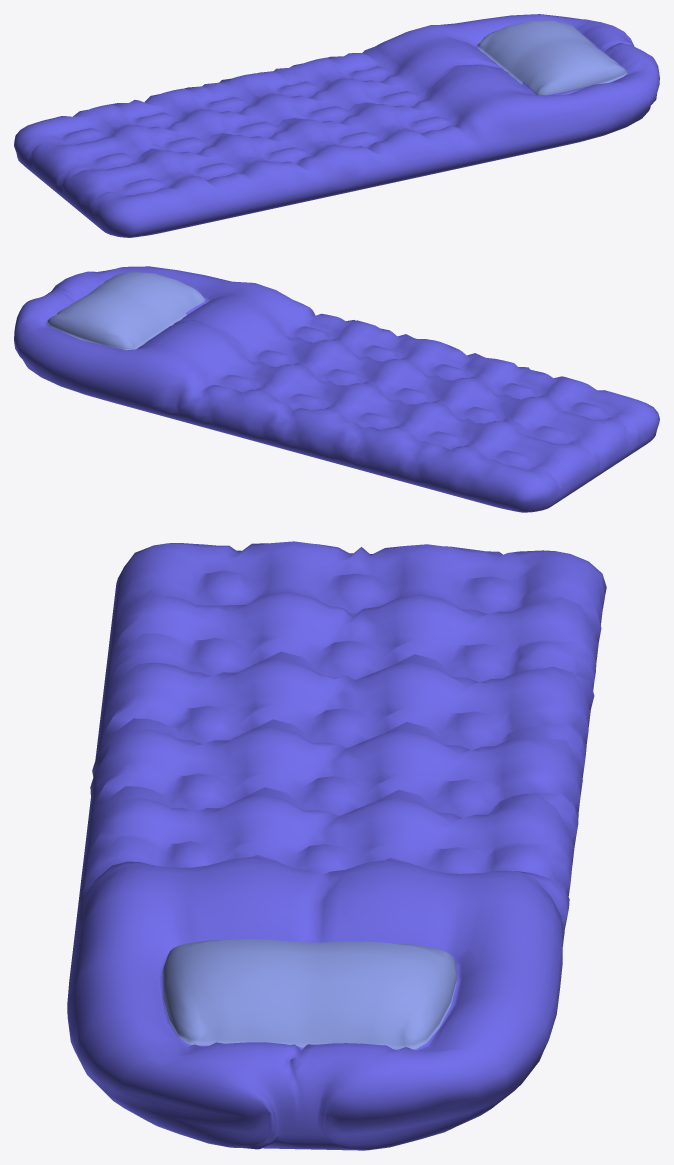
Rendered from BedFloatie.fbx.
3 renders of one model, top to bottom at view 1: azimuth 30°, elevation 25°; view 2: azimuth 150°, elevation 25°; view 3: azimuth 270°, elevation 25°, orthographic. The views are drawn at different scales.
Visible parts, largest first — view 1: FloatieBedBase; view 2: FloatieBedBase; view 3: FloatieBedBase.
Part boxes in pixels (left/top/right/bottom): FloatieBedBase: left=14, top=14, right=659, bottom=237; FloatieBedBase: left=14, top=266, right=659, bottom=512; FloatieBedBase: left=67, top=541, right=606, bottom=1150.
Bounding box in the file's own units: 539 × 56.52 × 220.
